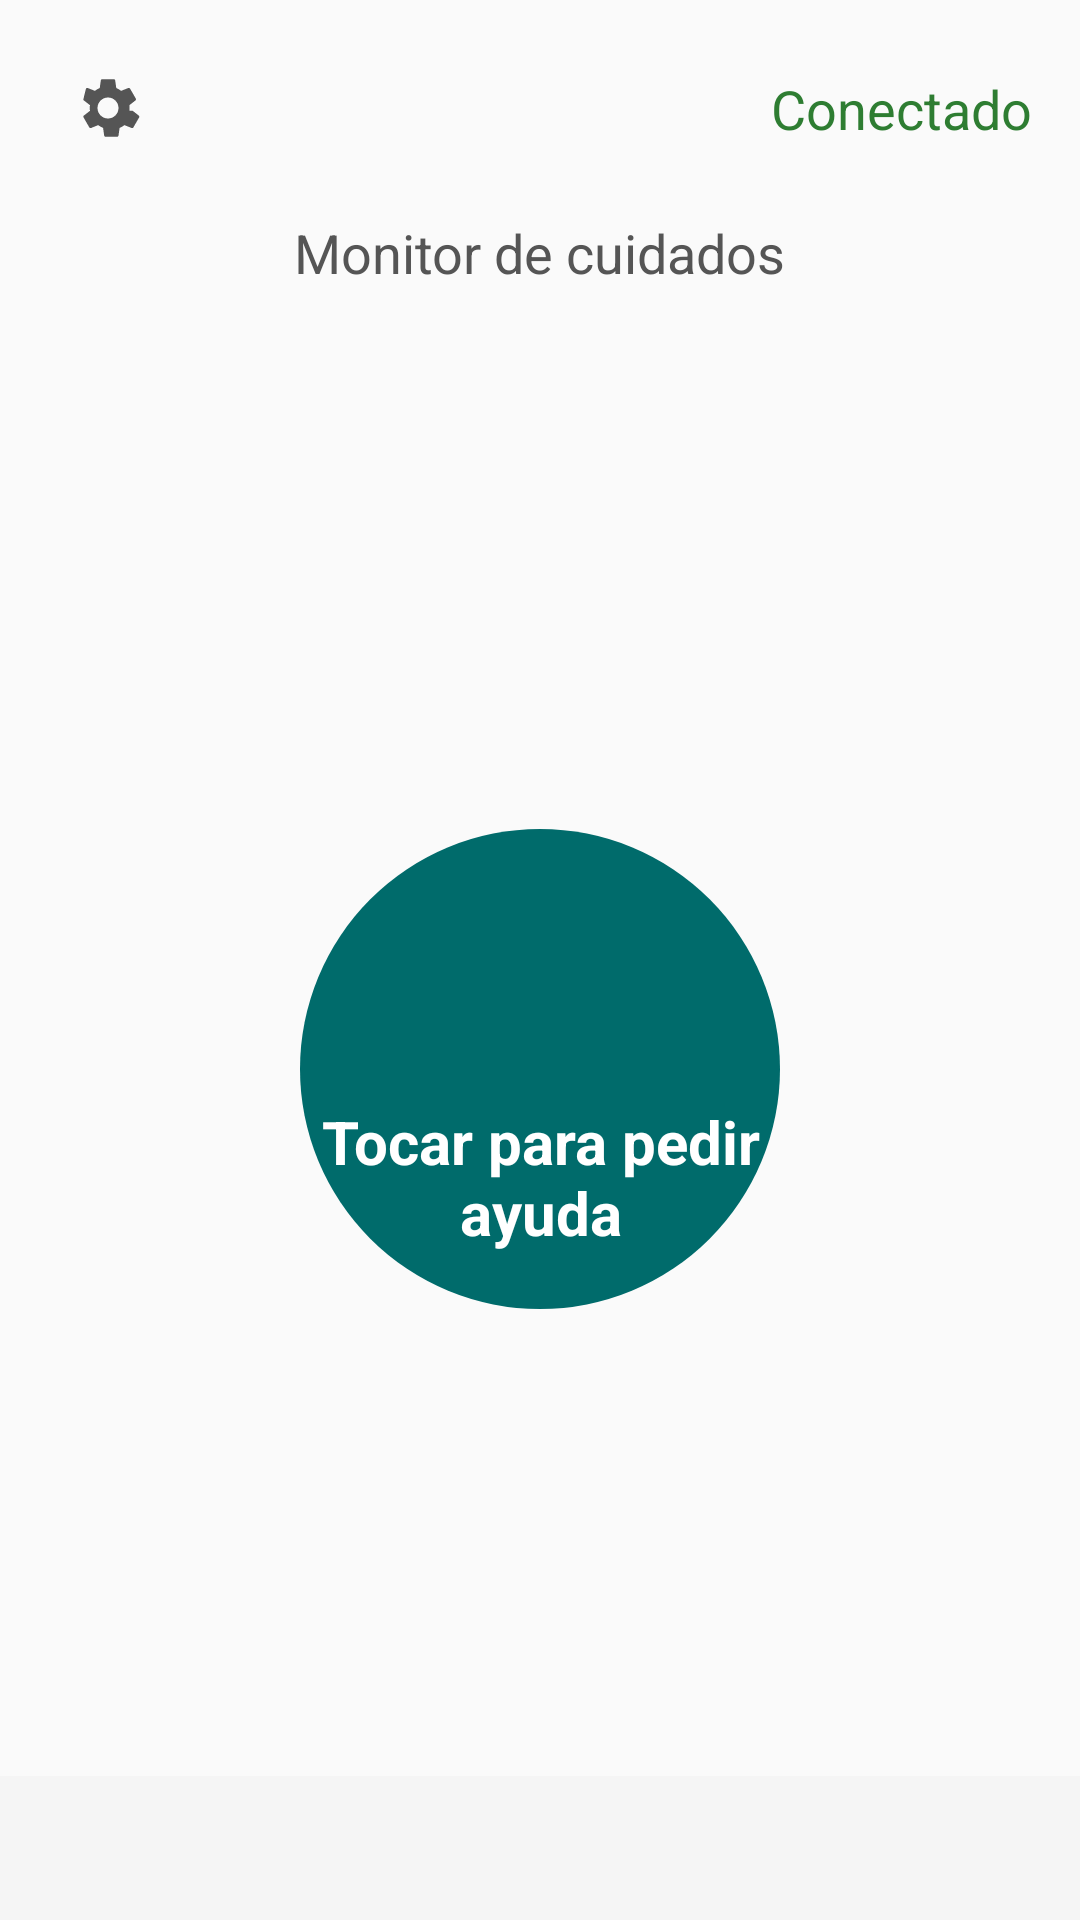

Icon click points for this 1080 x 1920 phone screenshot, format [x,y]:
Abrir configuración: [111,108]
